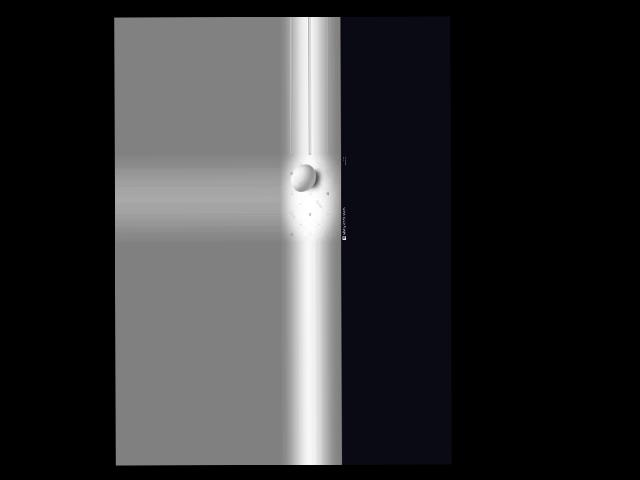egg: (291, 163, 316, 191)
